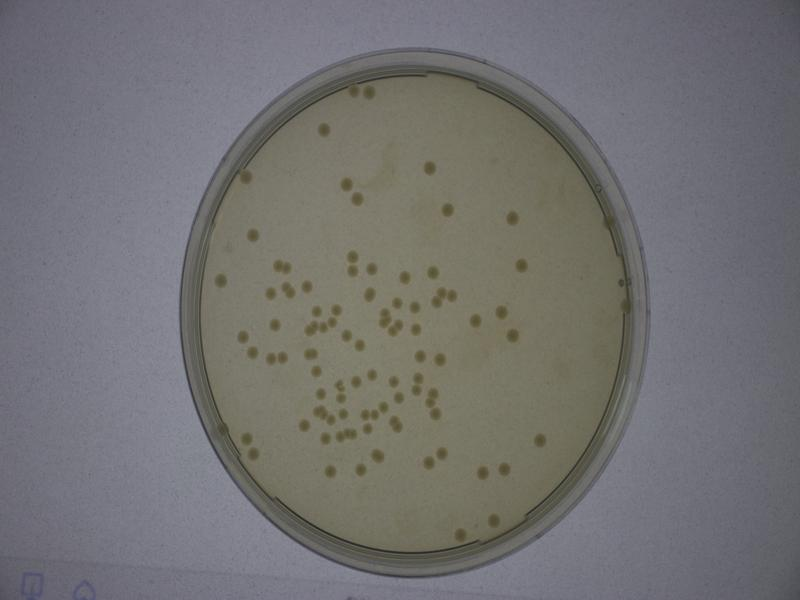colony: (429, 192, 460, 225), (410, 153, 446, 180), (497, 206, 528, 233), (308, 117, 339, 143), (239, 220, 266, 249), (316, 459, 345, 485), (510, 249, 535, 279), (209, 266, 234, 294), (389, 267, 418, 289), (262, 312, 287, 337), (491, 295, 515, 321), (332, 169, 356, 194), (525, 428, 551, 451), (420, 262, 445, 285), (349, 458, 372, 483), (350, 332, 373, 357), (465, 308, 486, 334), (504, 326, 527, 348), (469, 460, 491, 483), (496, 456, 517, 480), (363, 258, 385, 279), (411, 345, 430, 369), (296, 275, 317, 296), (432, 347, 449, 372), (309, 359, 325, 384), (293, 413, 313, 433), (362, 365, 381, 386), (232, 325, 252, 344), (346, 190, 366, 209), (385, 369, 403, 389), (241, 343, 261, 361), (261, 283, 279, 303), (419, 452, 436, 473), (345, 372, 363, 391), (406, 321, 427, 337), (388, 389, 405, 408), (433, 445, 451, 462), (407, 296, 422, 315), (388, 293, 403, 311)
